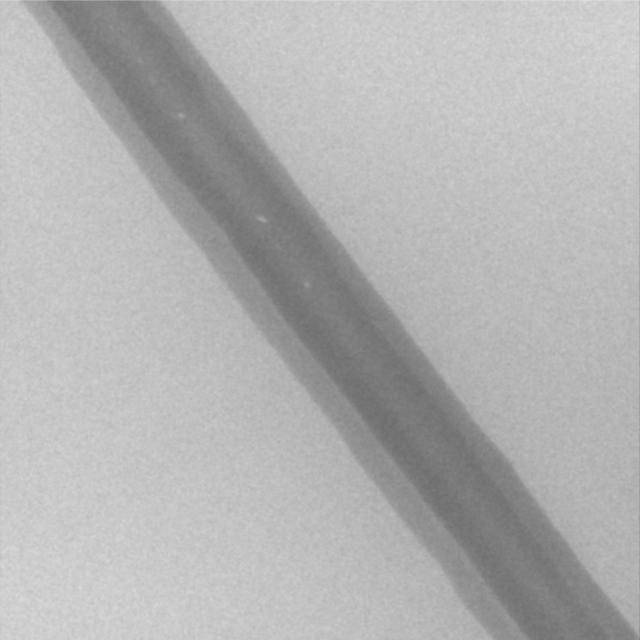air hole: (301, 279, 312, 289), (177, 111, 186, 121), (255, 216, 266, 224)
